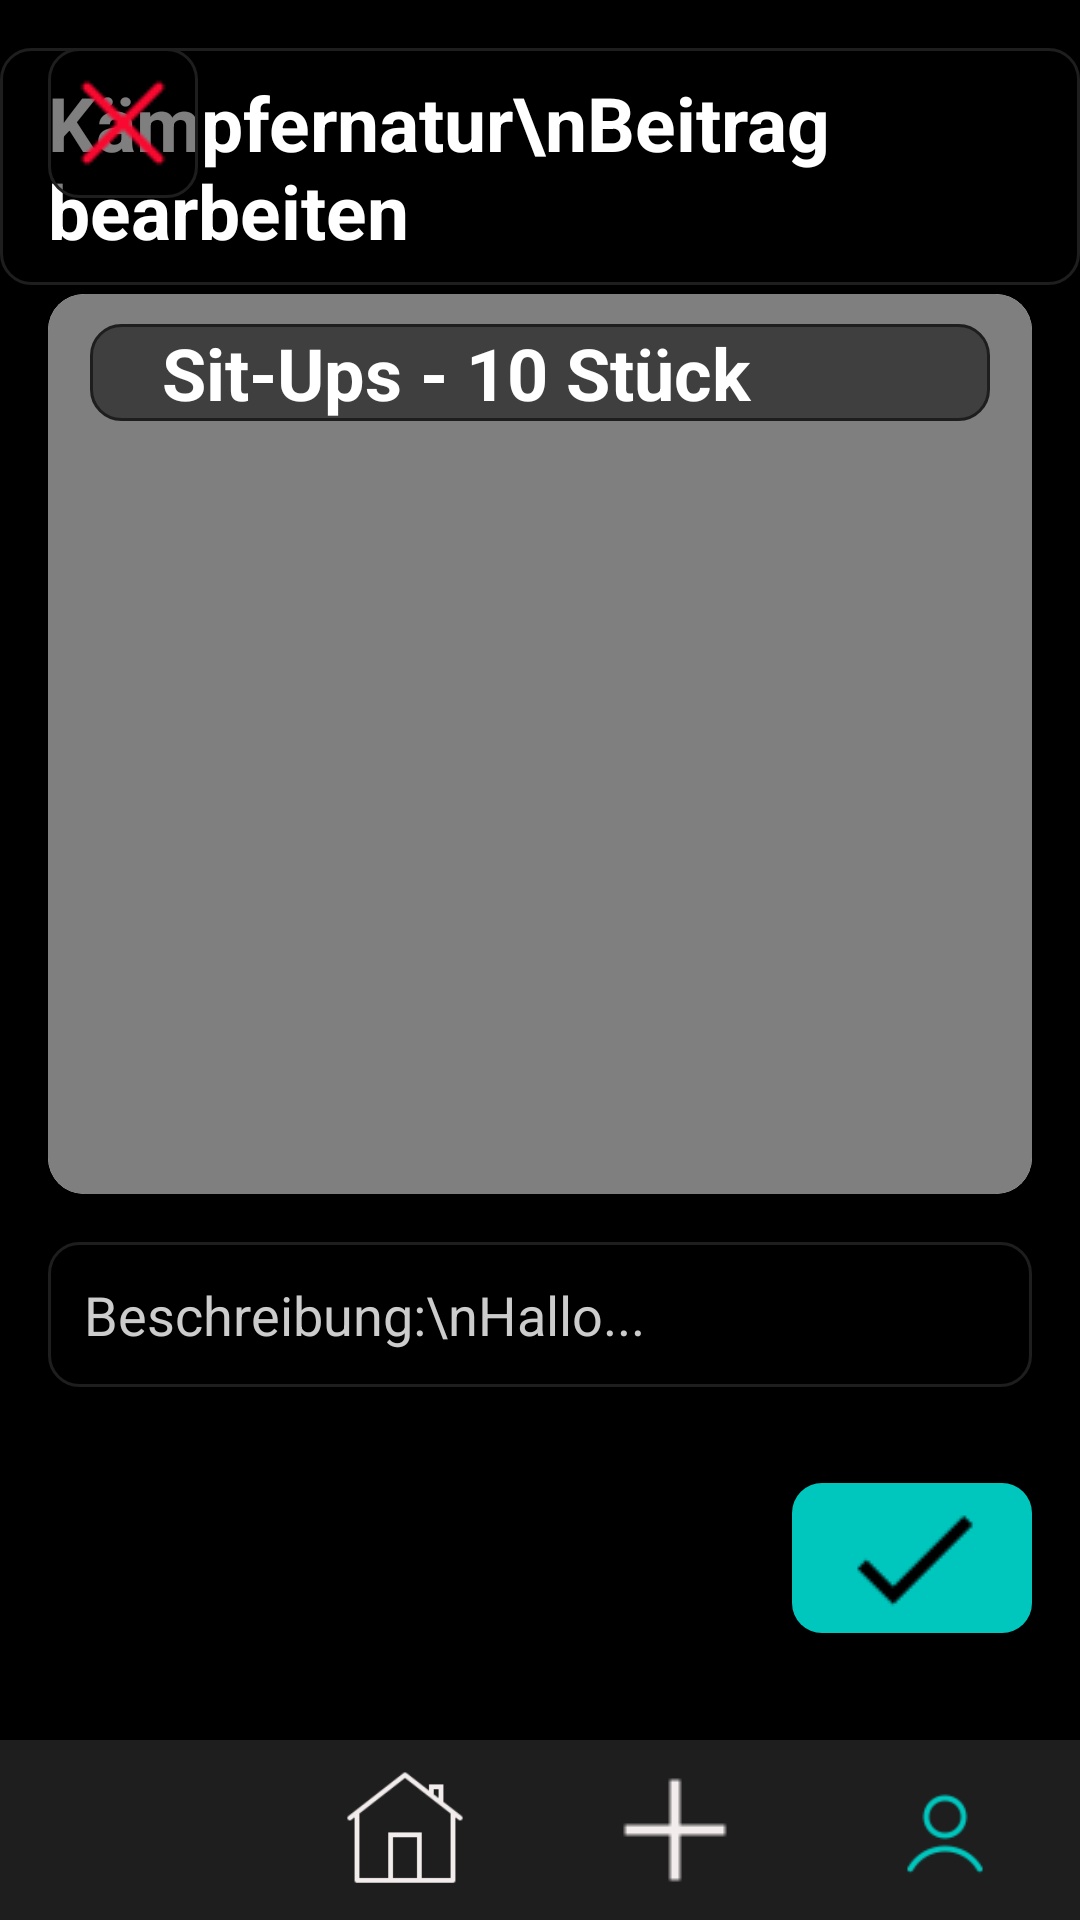

Where icons sit on this 1080w x 1920h app screen, as box=[x1, y1, x2, y2]:
Abbrechen: box=[48, 48, 198, 198]
add: box=[623, 1778, 727, 1882]
Auswahl bestätigen: box=[792, 1483, 1032, 1633]
home: box=[347, 1772, 463, 1883]
profile: box=[907, 1794, 983, 1873]
